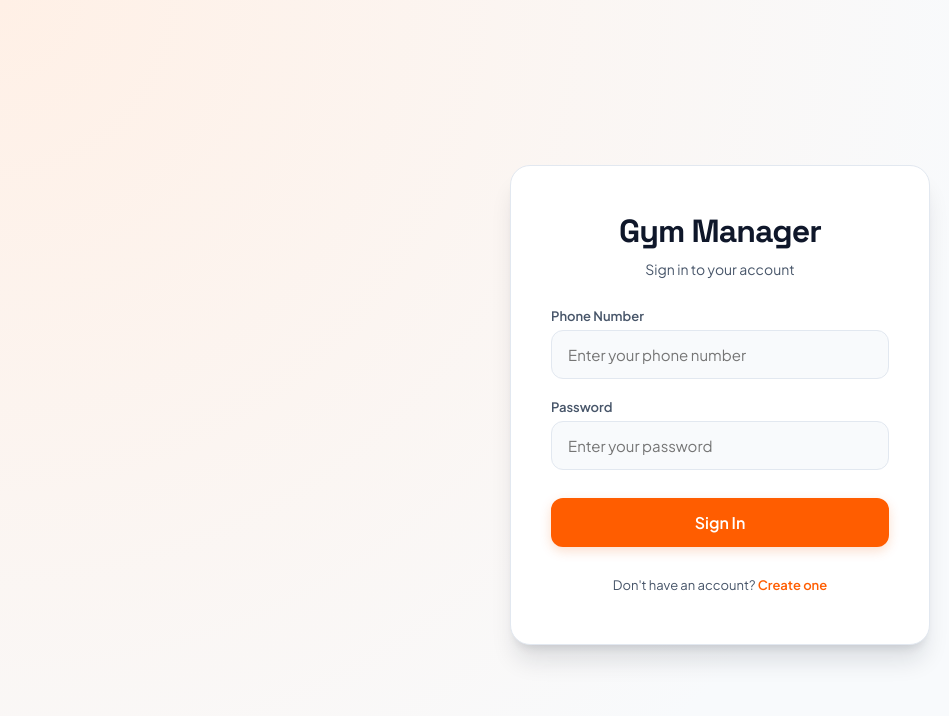
Test: displays error message on login failure
Type "1111111111" into the field labelled "Phone Number".
click(720, 354); type("1111111111")  # box [551, 330, 889, 379]
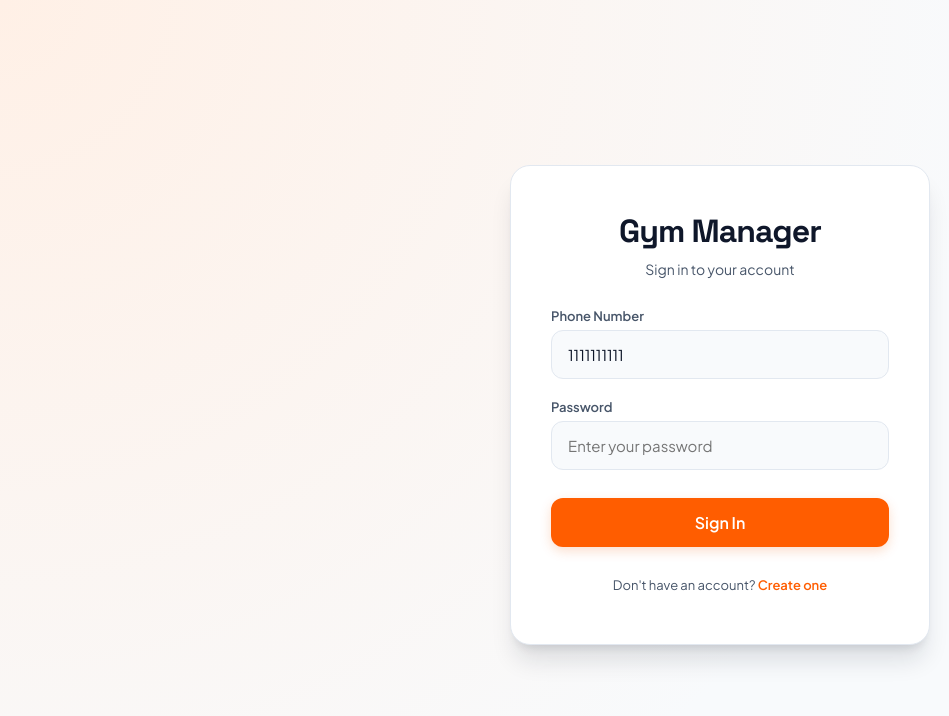
Type "wrongpass" into the password field labelled "Password".
click(720, 445); type("wrongpass")  # box [551, 421, 889, 470]
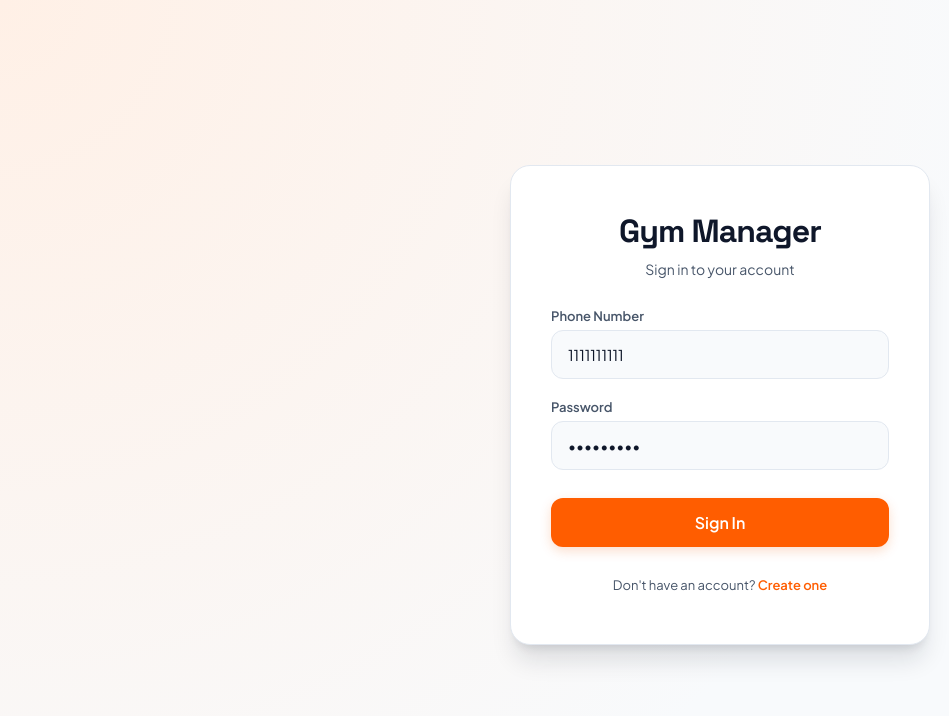
Click the button "Sign In".
click(720, 522)  # box [551, 498, 889, 547]
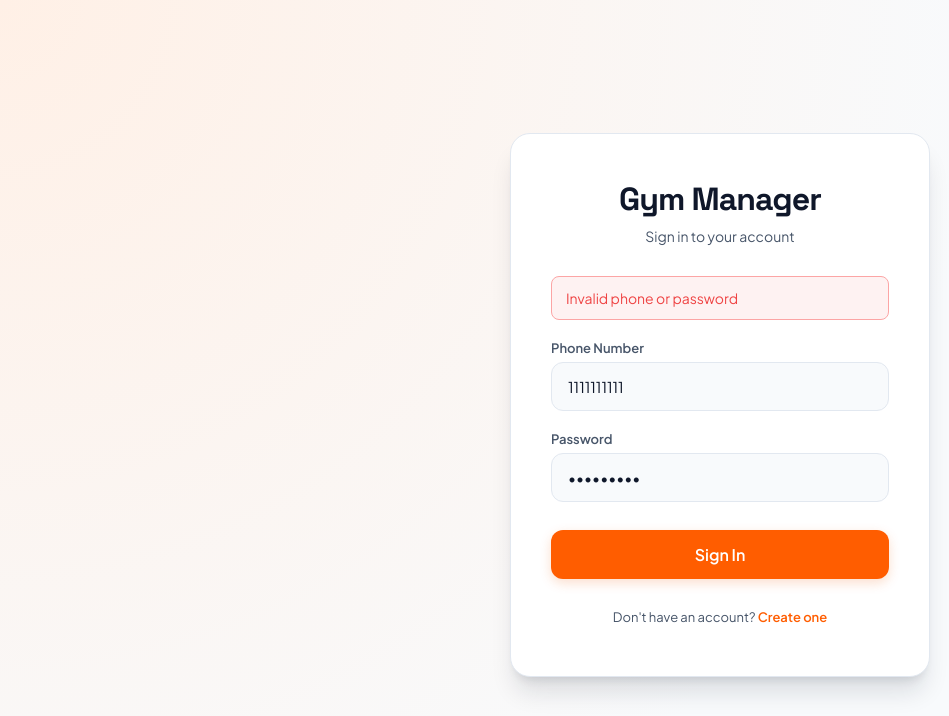
Expected: the text "Invalid phone or password" is shown, [551, 276, 889, 320]
